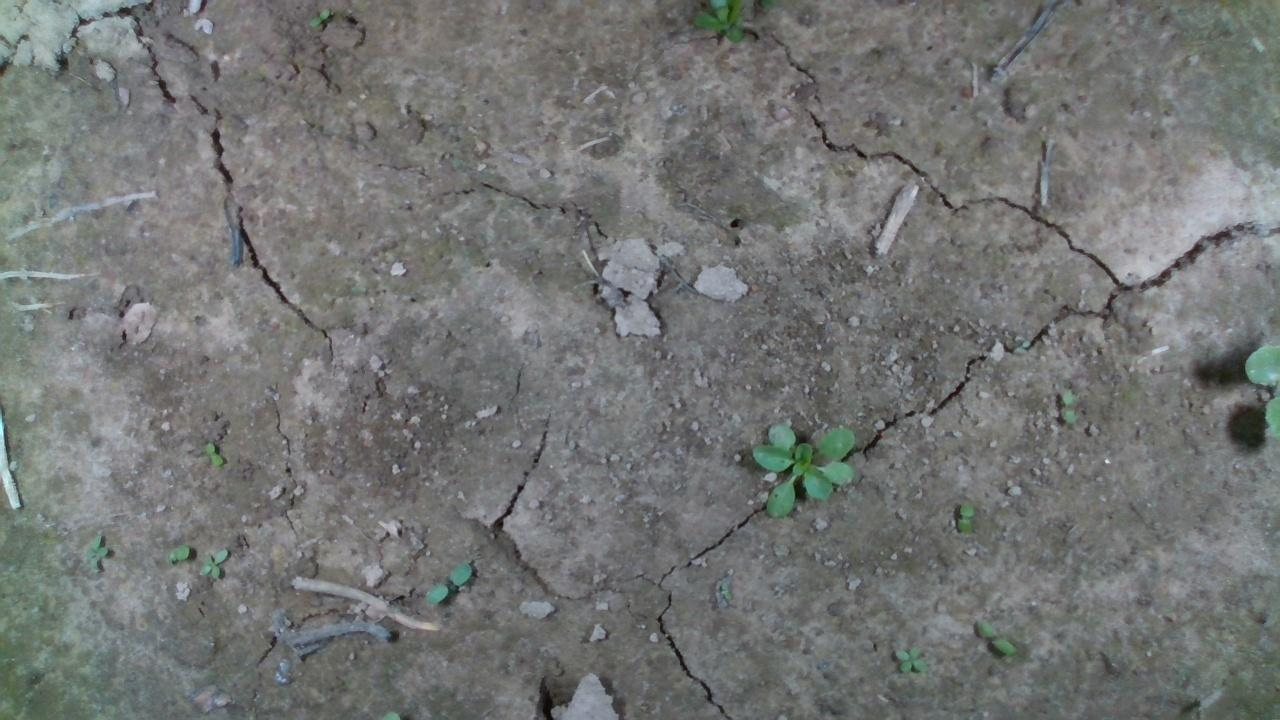weed: (423, 558, 472, 605), (973, 616, 1017, 655), (83, 530, 110, 573), (196, 546, 227, 582), (892, 644, 928, 672), (954, 500, 976, 534), (1059, 385, 1078, 424), (164, 542, 190, 563), (202, 441, 223, 467)
